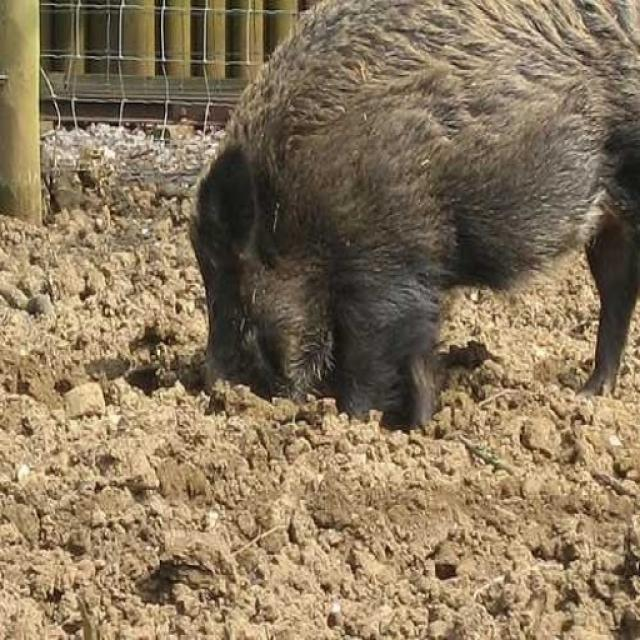pig: (133, 7, 640, 524)
